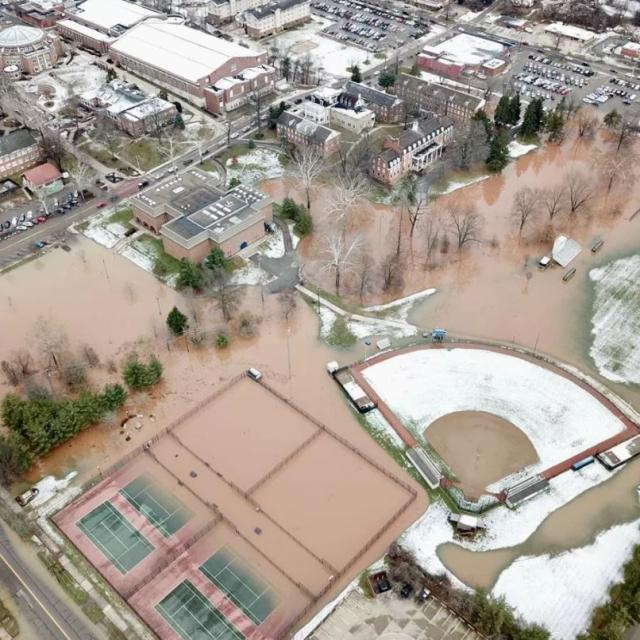flooded_areas: (7, 112, 627, 606)
